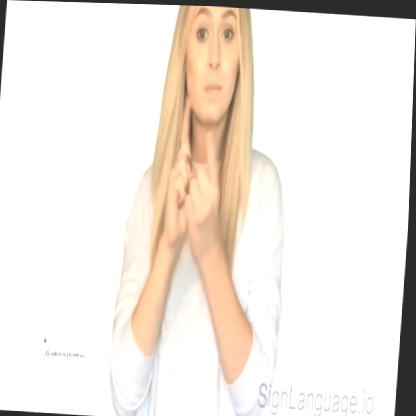NiceToMeetYou: (158, 90, 238, 265)
